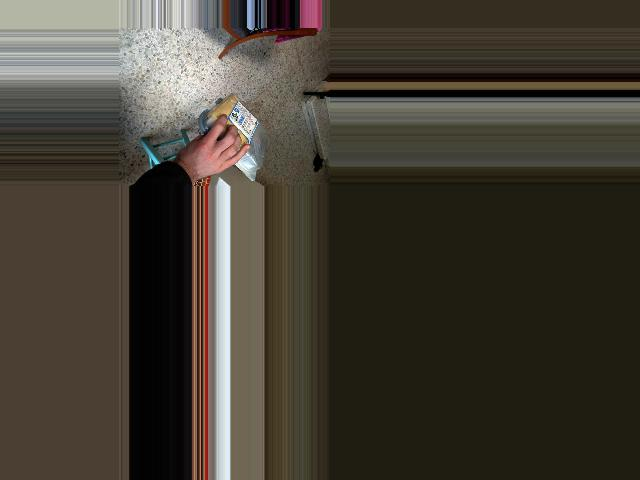cheese: (213, 96, 260, 183)
